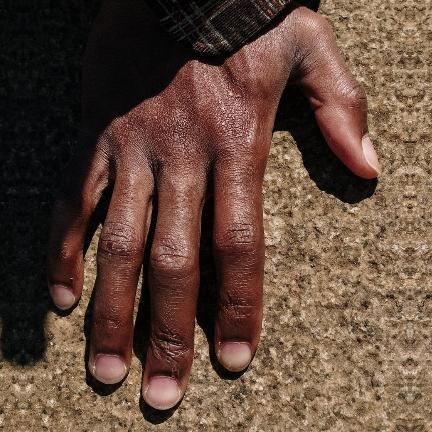Nail: (145, 377, 179, 411), (217, 342, 252, 372), (93, 355, 126, 384), (362, 134, 381, 175), (51, 285, 74, 310)
